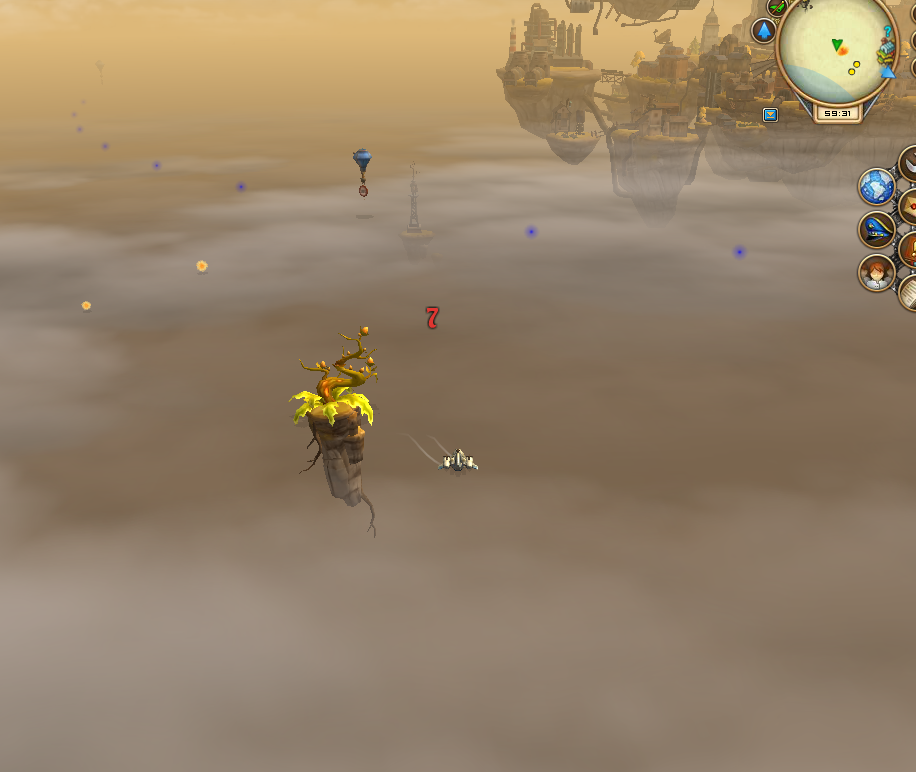dandelion-empty: (287, 321, 380, 523)
fluff: (74, 291, 98, 317), (190, 254, 214, 279)
